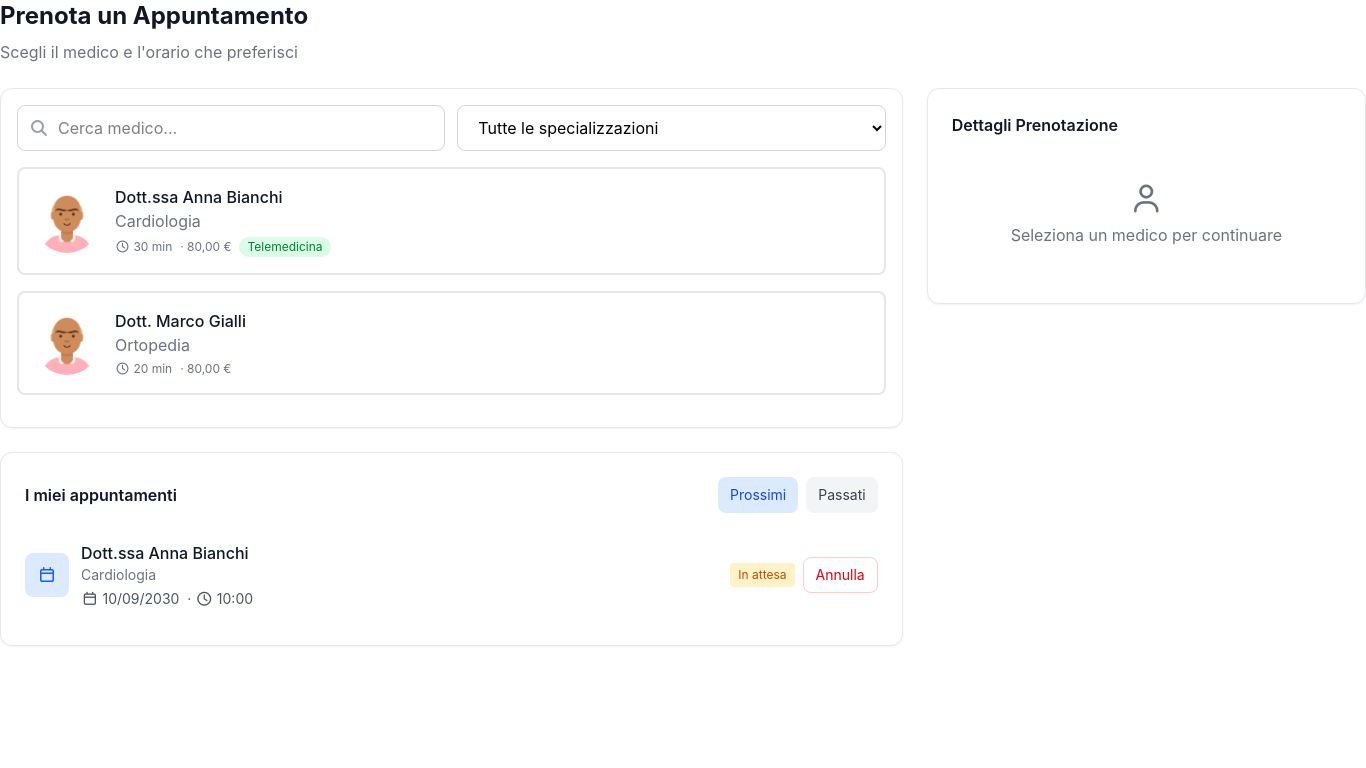
Test case: Prenotazione visite (paziente) › conferma l annullamento inviando il motivo
Click the button "Annulla": {"x": 840, "y": 575} [802,557,878,593]
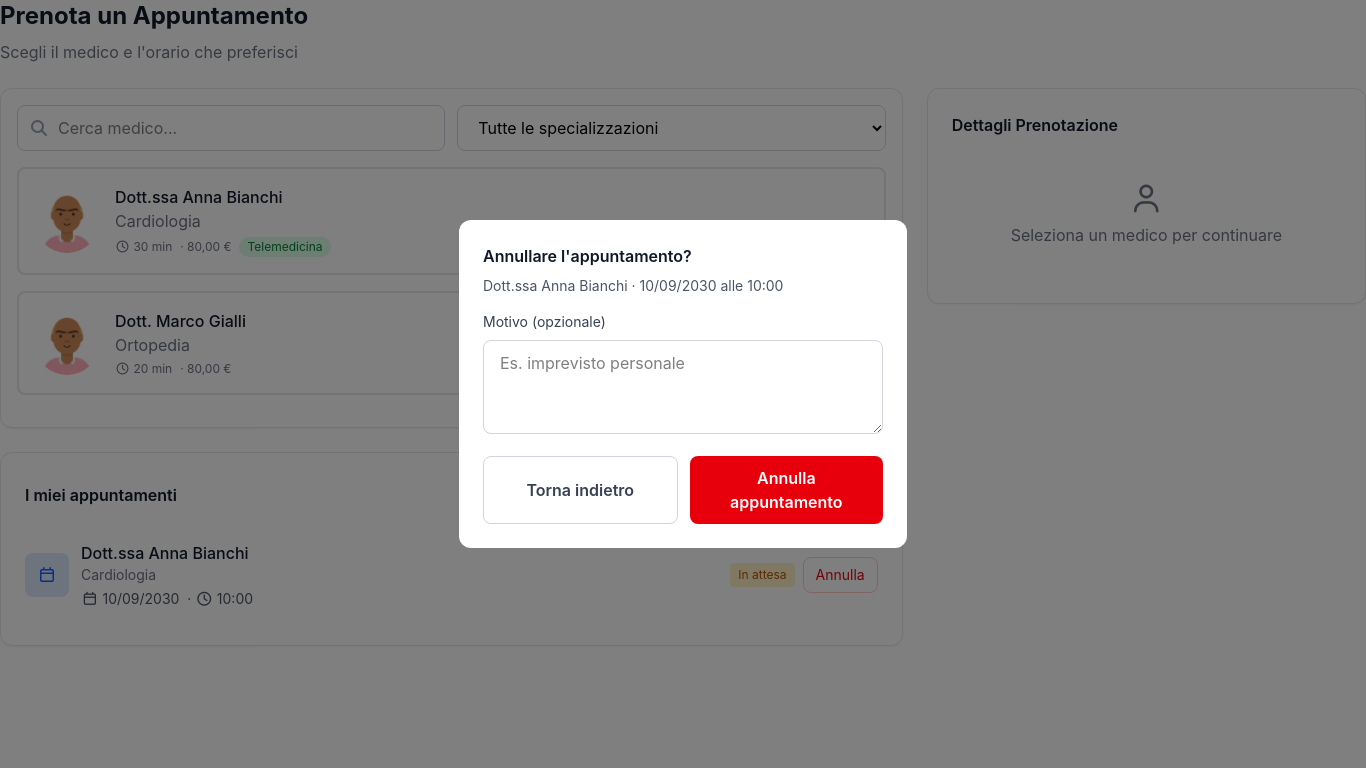
In the text box with id "cancel-reason": {"x": 683, "y": 387} [483,340,883,434], type "Imprevisto di lavoro"
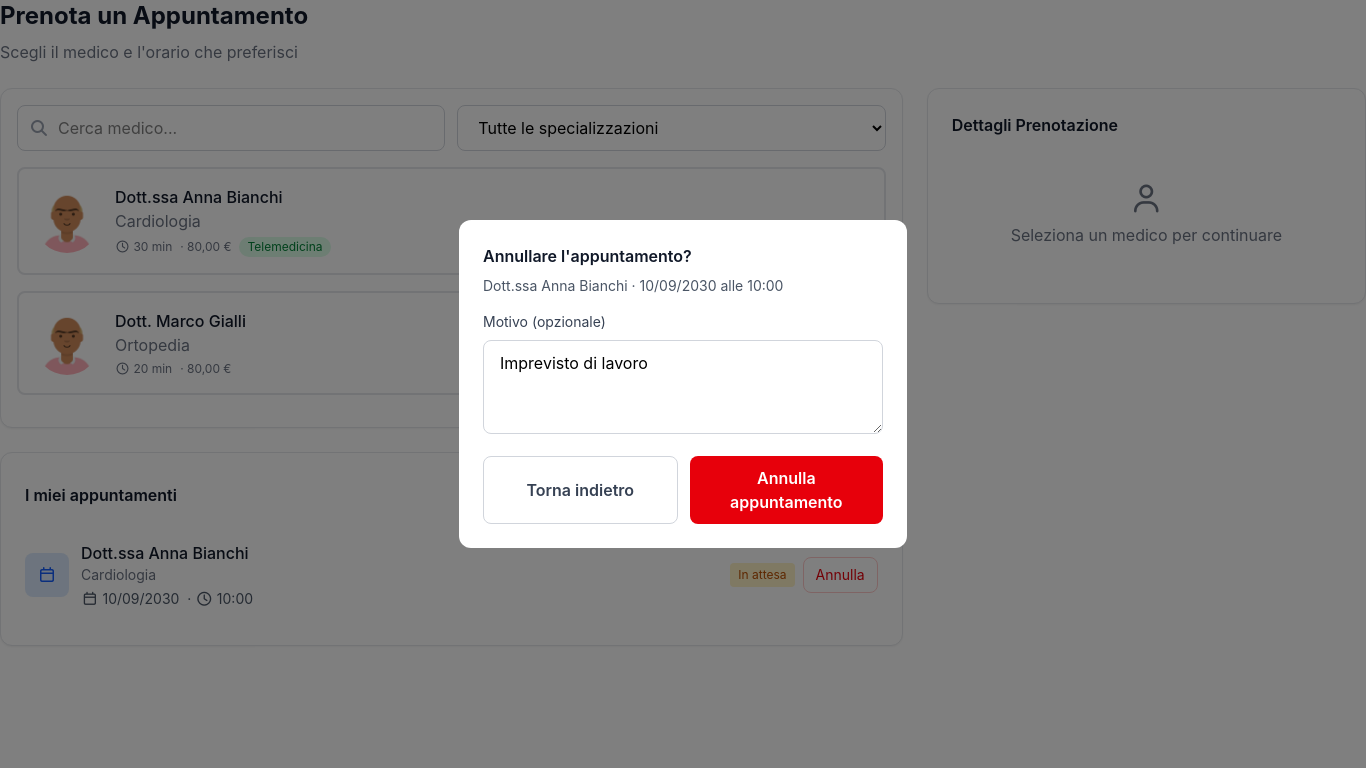
Click the button "Annulla appuntamento": {"x": 786, "y": 490} [690,456,883,524]
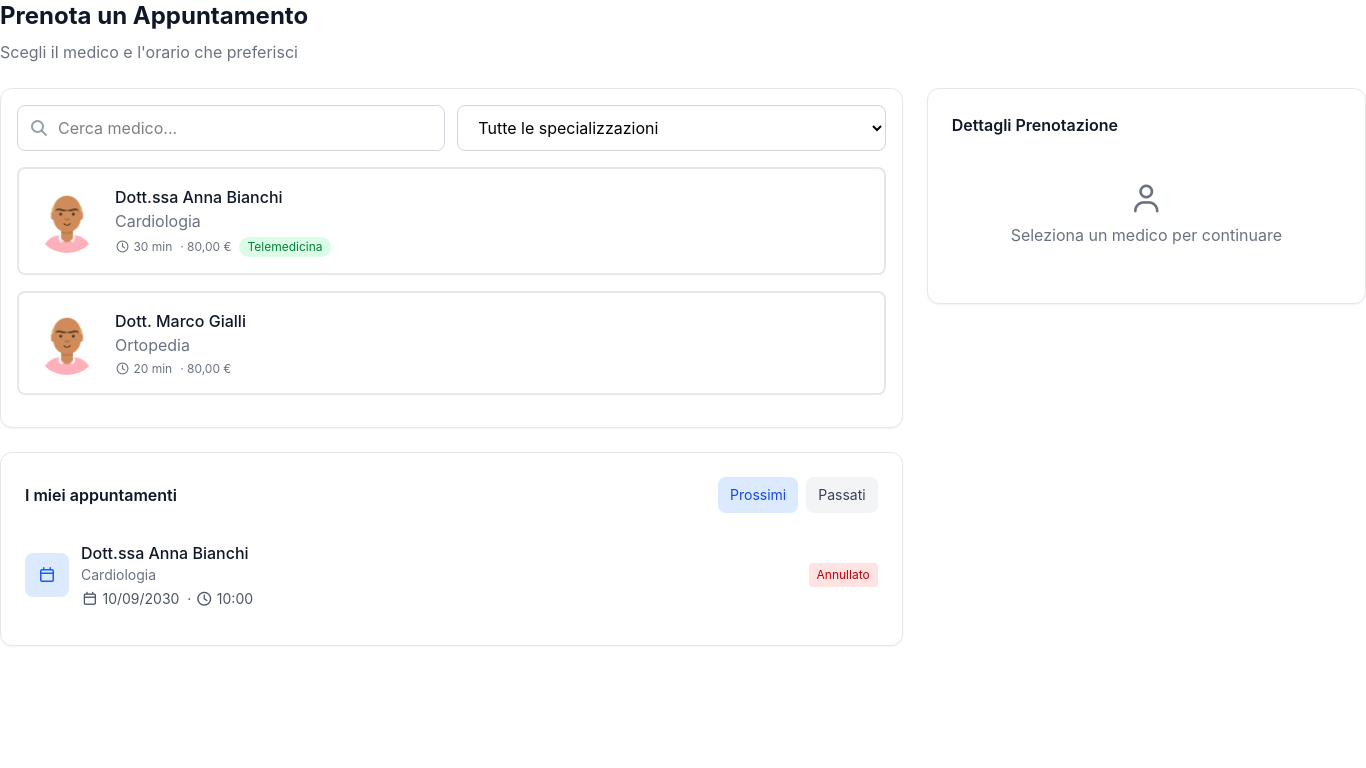
Result: the text "Annullato" is shown at [808,563,878,587]
